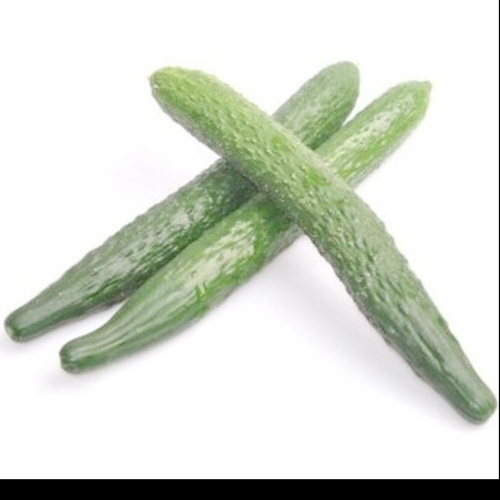cucumber: (153, 65, 491, 415), (69, 79, 431, 376), (6, 63, 354, 328)
